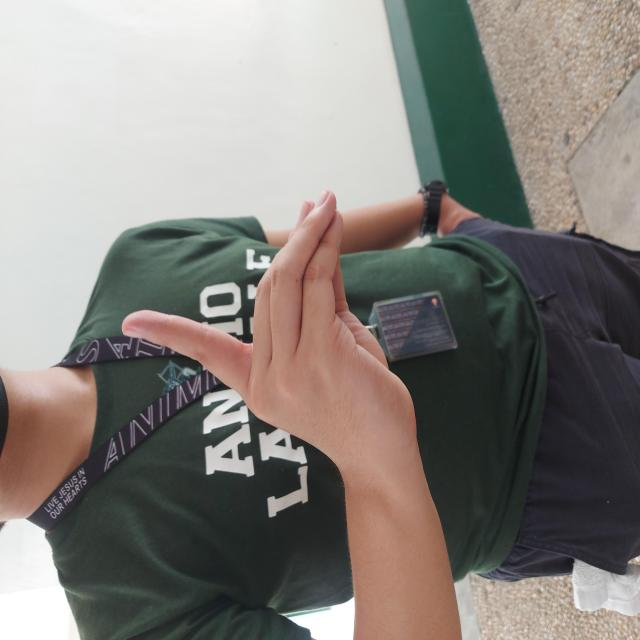D: (170, 120, 452, 424)
